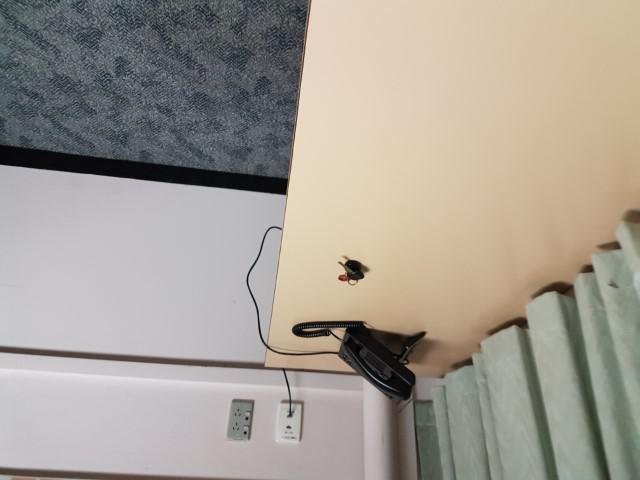key: (338, 259, 364, 280)
